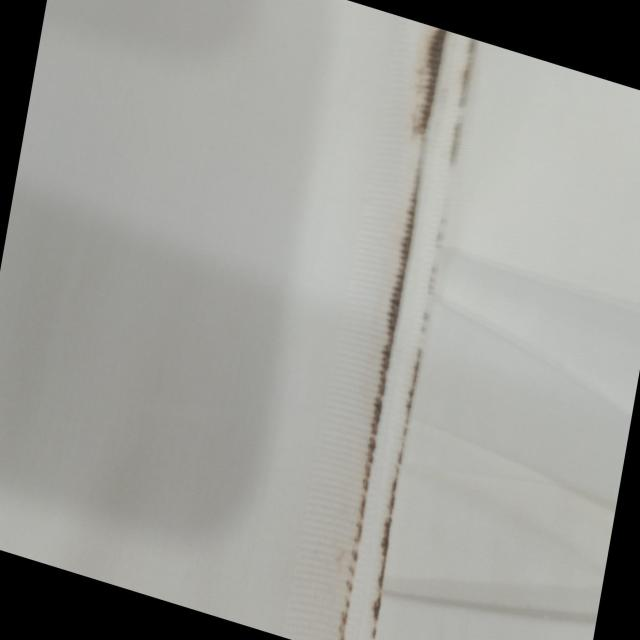stain: (319, 24, 489, 640)
